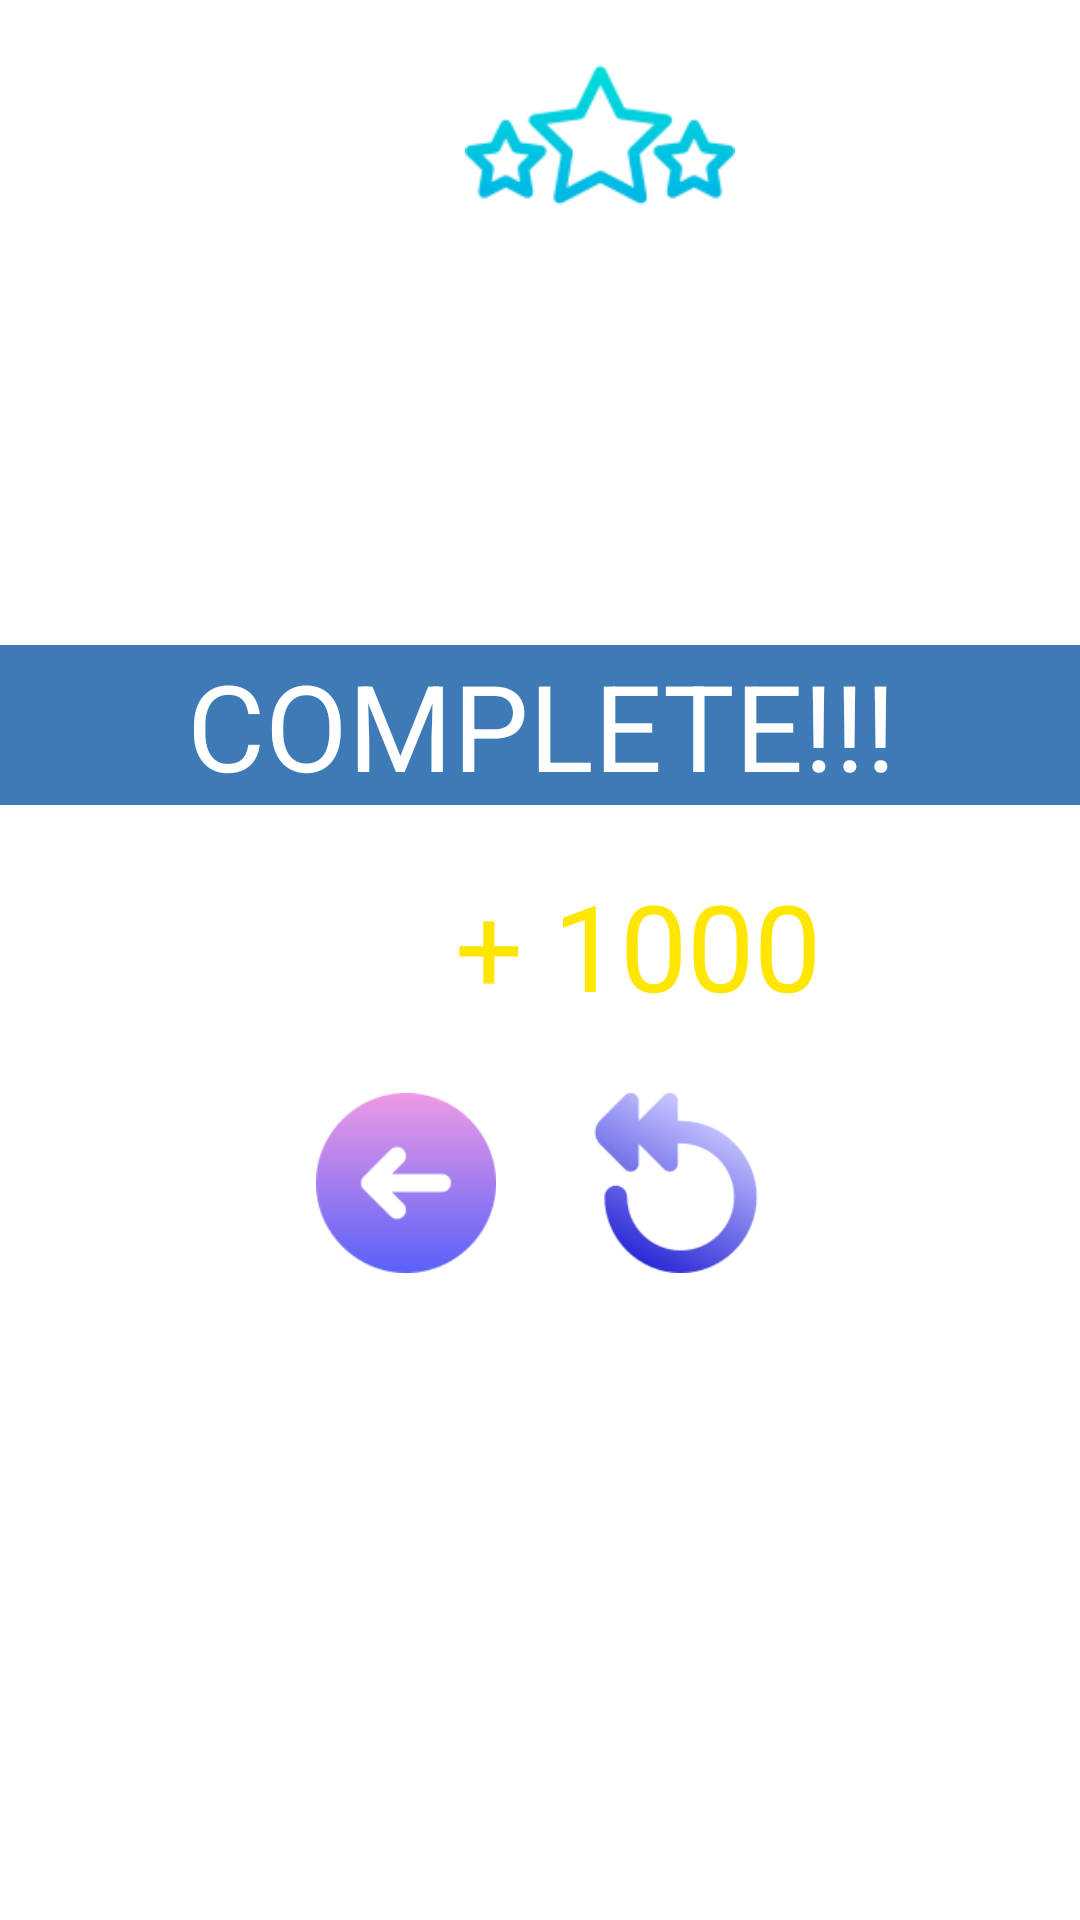

Screen size 1080×1920. Icon name, then its box in pixels as (x1, y1, x2, y2):
Chơi lại: (594, 1093, 757, 1273)
threestar: (465, 65, 735, 205)
Trở về: (316, 1093, 496, 1273)
